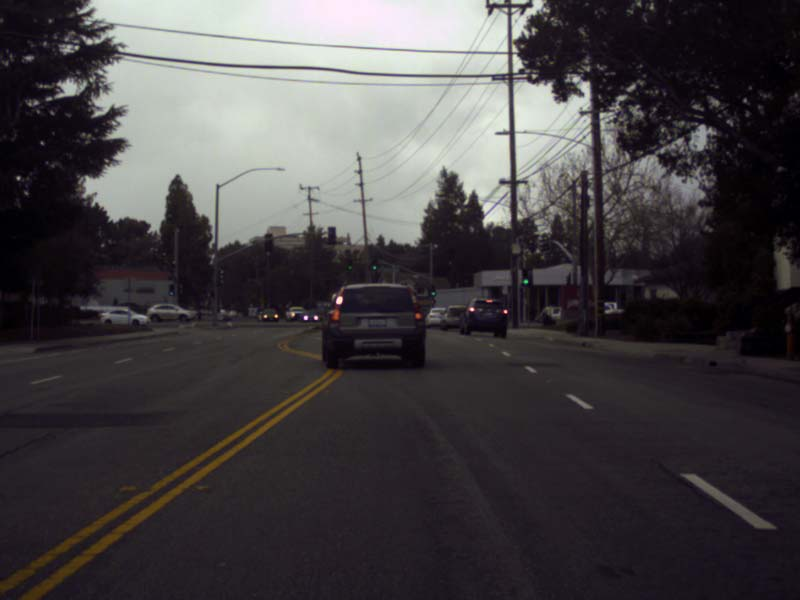Green: (522, 268, 529, 285), (371, 259, 376, 269), (430, 285, 435, 295), (169, 284, 173, 295), (347, 259, 351, 269)
